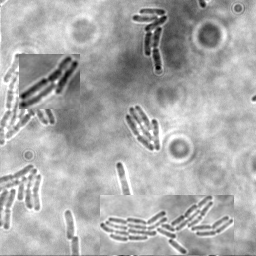Microcolony: (100, 195, 234, 255), (1, 51, 56, 147), (19, 54, 80, 109), (1, 162, 44, 231), (130, 8, 167, 72), (124, 106, 160, 153), (63, 208, 74, 240)
